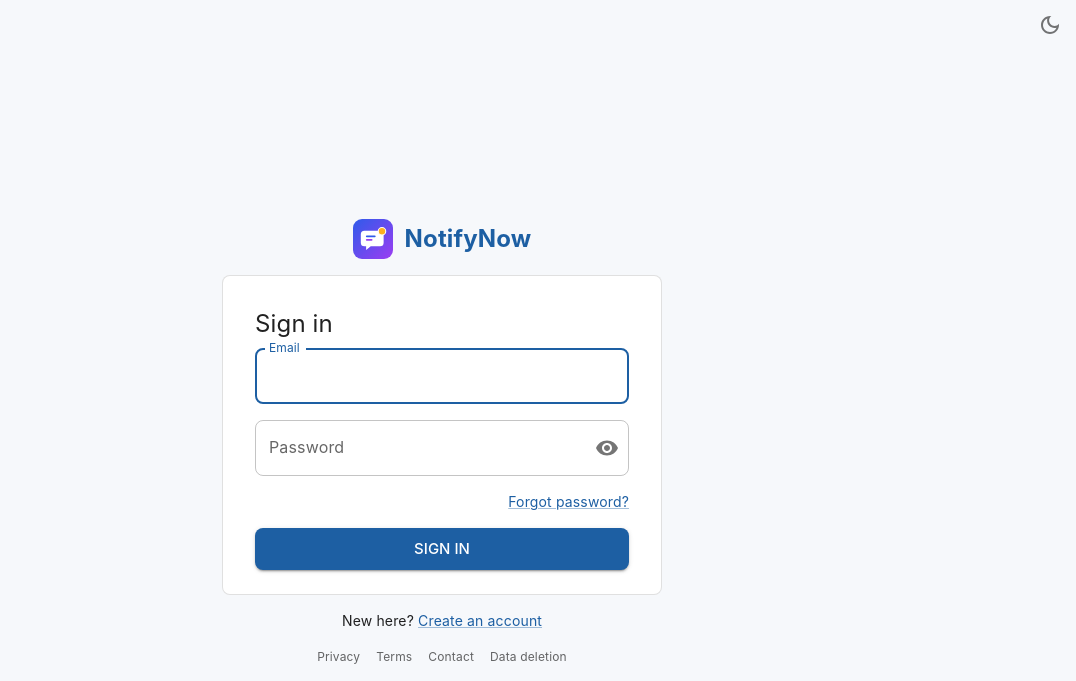
Test: LoginPage › signs in and goes to next
The image size is (1076, 681).
Type "asha@example.com" into the field labelled "Email" at (442, 376), box [255,348,629,404]
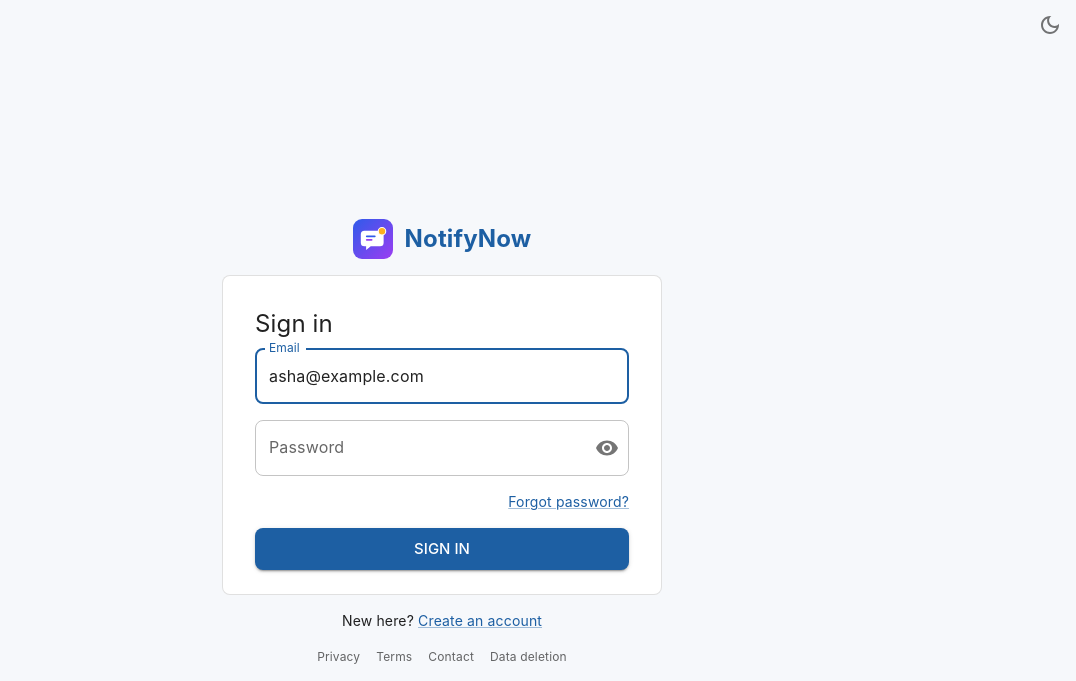
Type "blue-tiger-river-42" into the password field labelled "Password" at (417, 448), box [255,420,579,476]
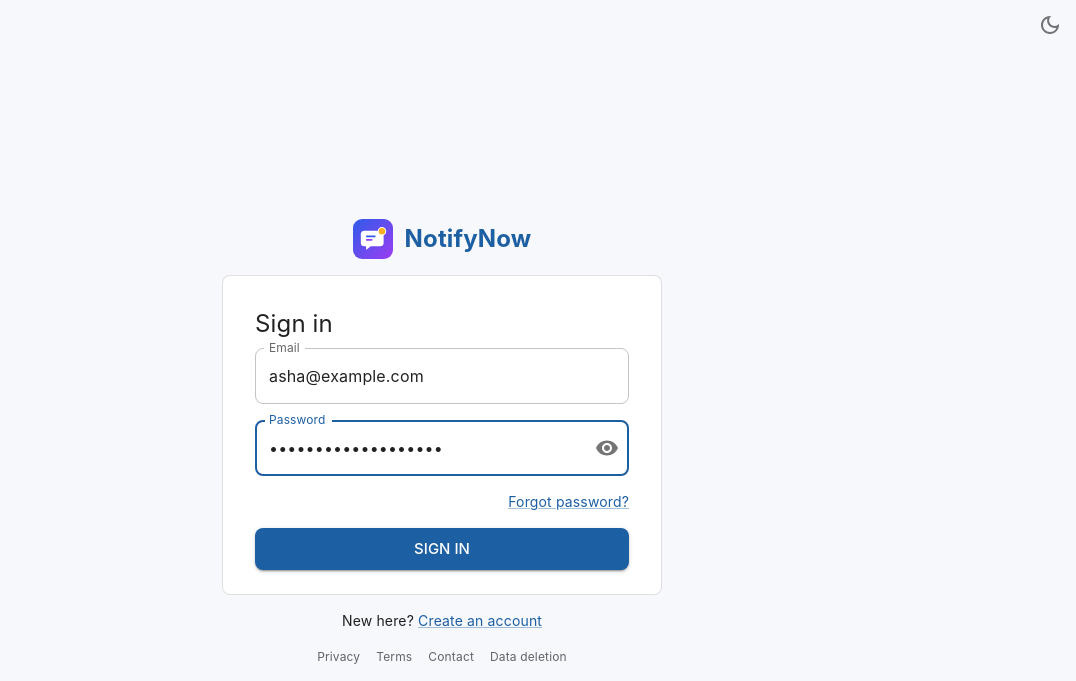
Click the button "Sign in" at (442, 549), box [255,528,629,570]
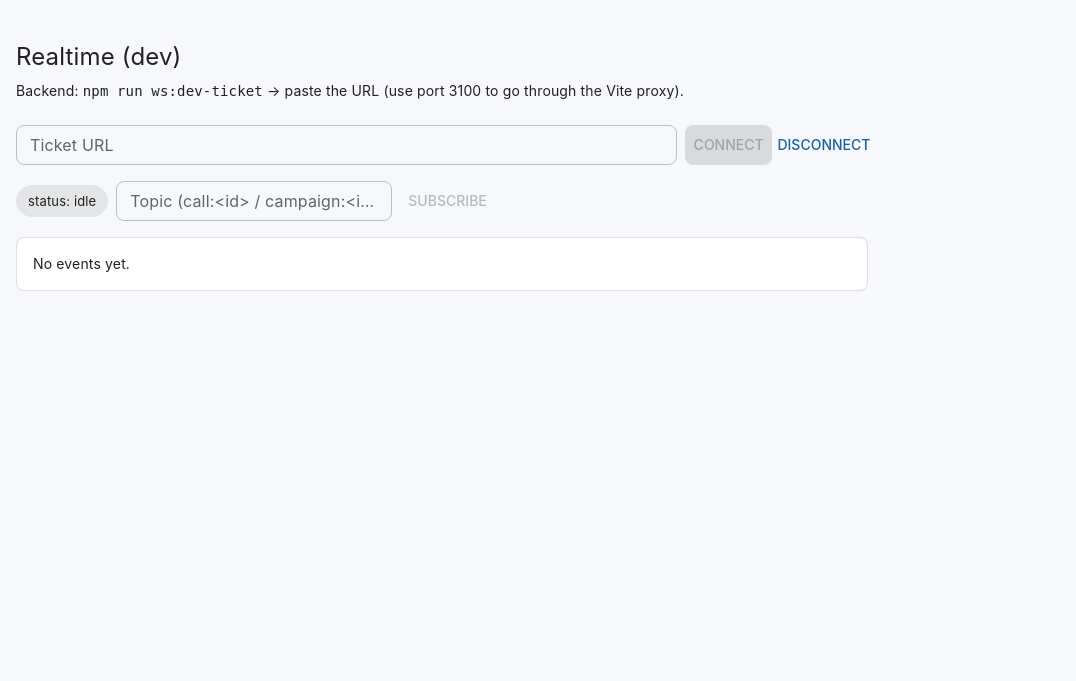
Expected: the heading "Realtime (dev)" is shown, [16,42,181,71]
